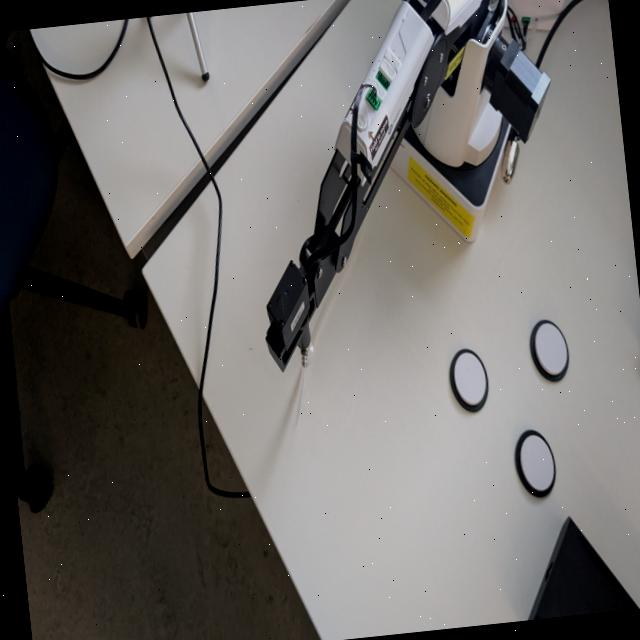Robot-end-effector-HF8z: (256, 254, 326, 388)
